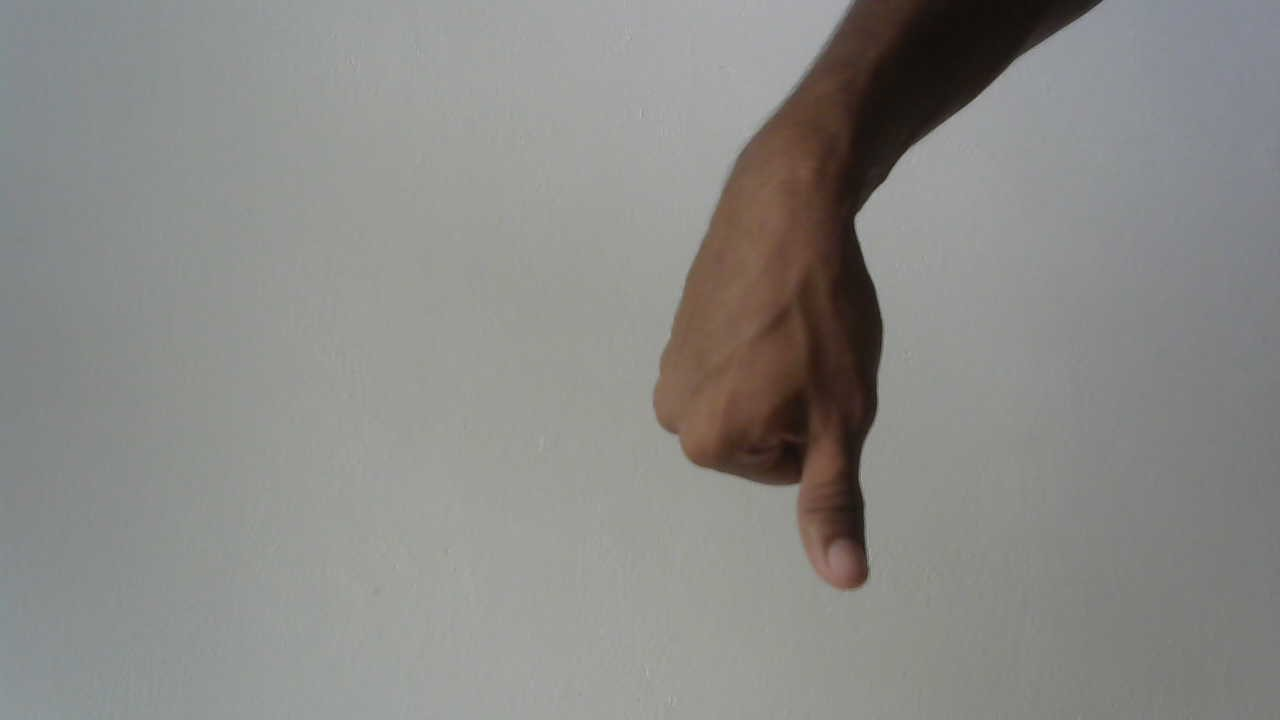thumbsdown: (647, 131, 945, 607)
